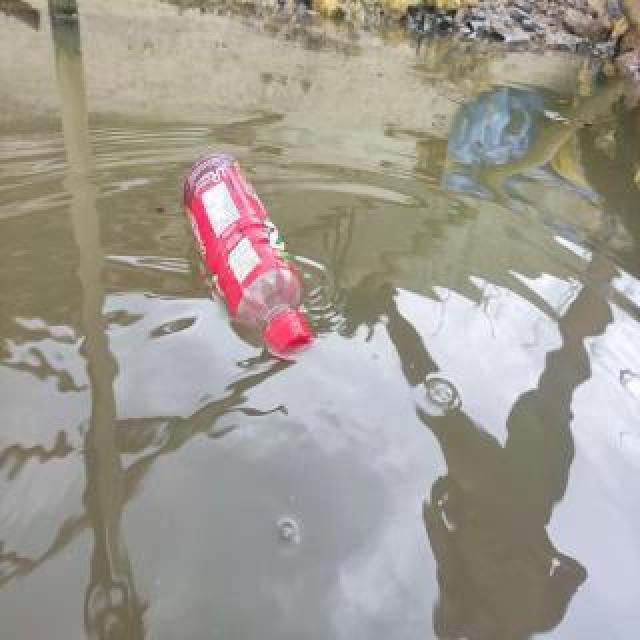bottle: (178, 143, 322, 365)
